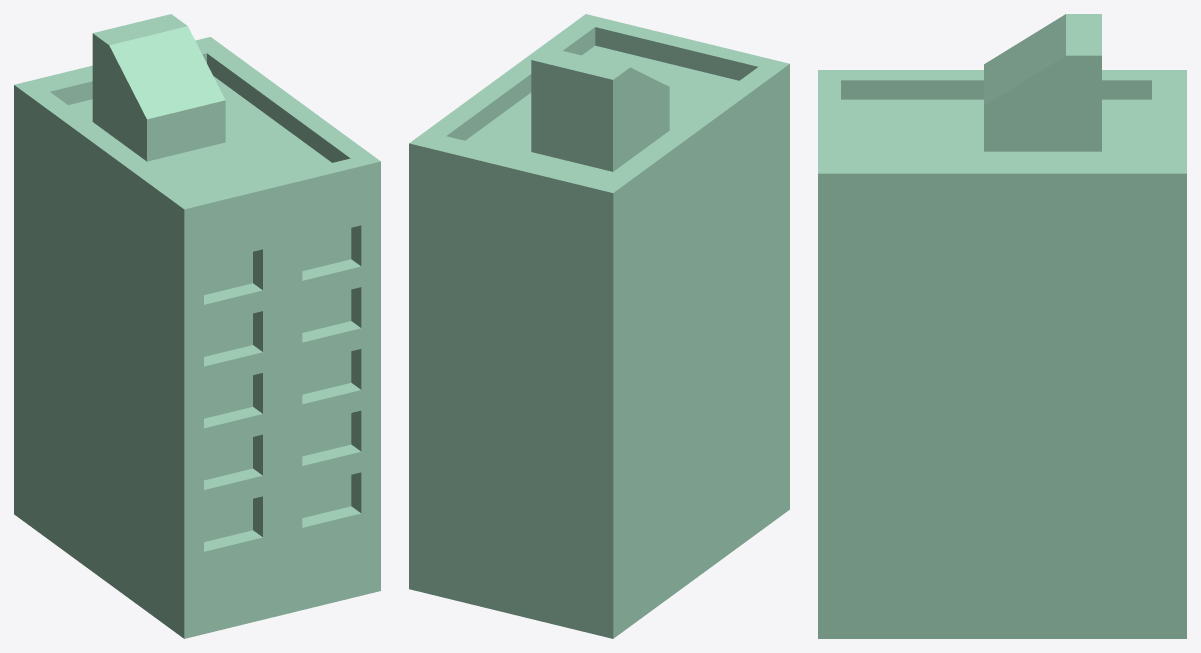
Rendered from SM_Edificio04.fbx.
3 views of the same model, side by side, from view 1: azimuth 30°, elevation 25°; view 2: azimuth 150°, elevation 25°; view 3: azimuth 270°, elevation 25° (orthographic). The views are drawn at different scales.
Parts seen in each view (by area): view 1: Cube; view 2: Cube; view 3: Cube.
Boxes of the visible parts, x1,y1,x2,y2 form: Cube: (14,14,380,638); Cube: (409,14,789,638); Cube: (818,14,1186,638).
Bounding box in the file's own units: 200 × 486 × 300.
